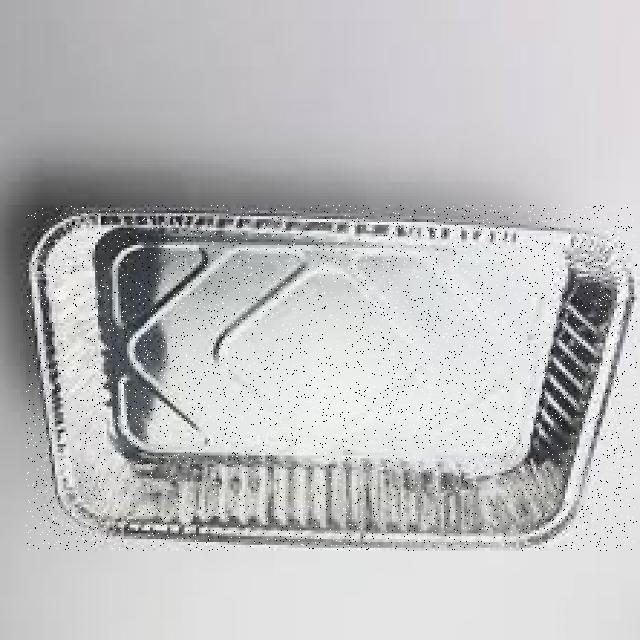metal: (26, 205, 637, 550)
